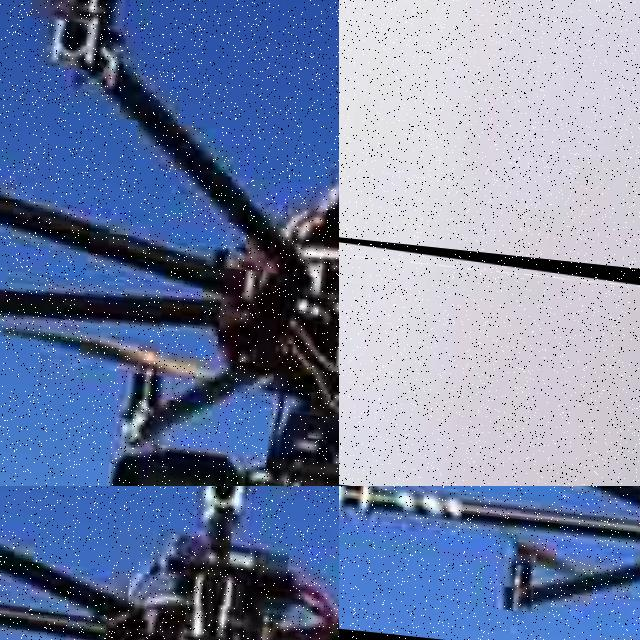0: (0, 0, 339, 486), (0, 486, 339, 640), (339, 486, 640, 640)
drone: (339, 223, 640, 486)
